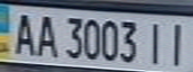0: (81, 15, 103, 61), (100, 17, 121, 63)
3: (118, 17, 142, 64), (60, 14, 84, 61)
A: (9, 9, 39, 56), (33, 10, 60, 58)
I: (163, 19, 193, 67), (142, 18, 169, 65)
